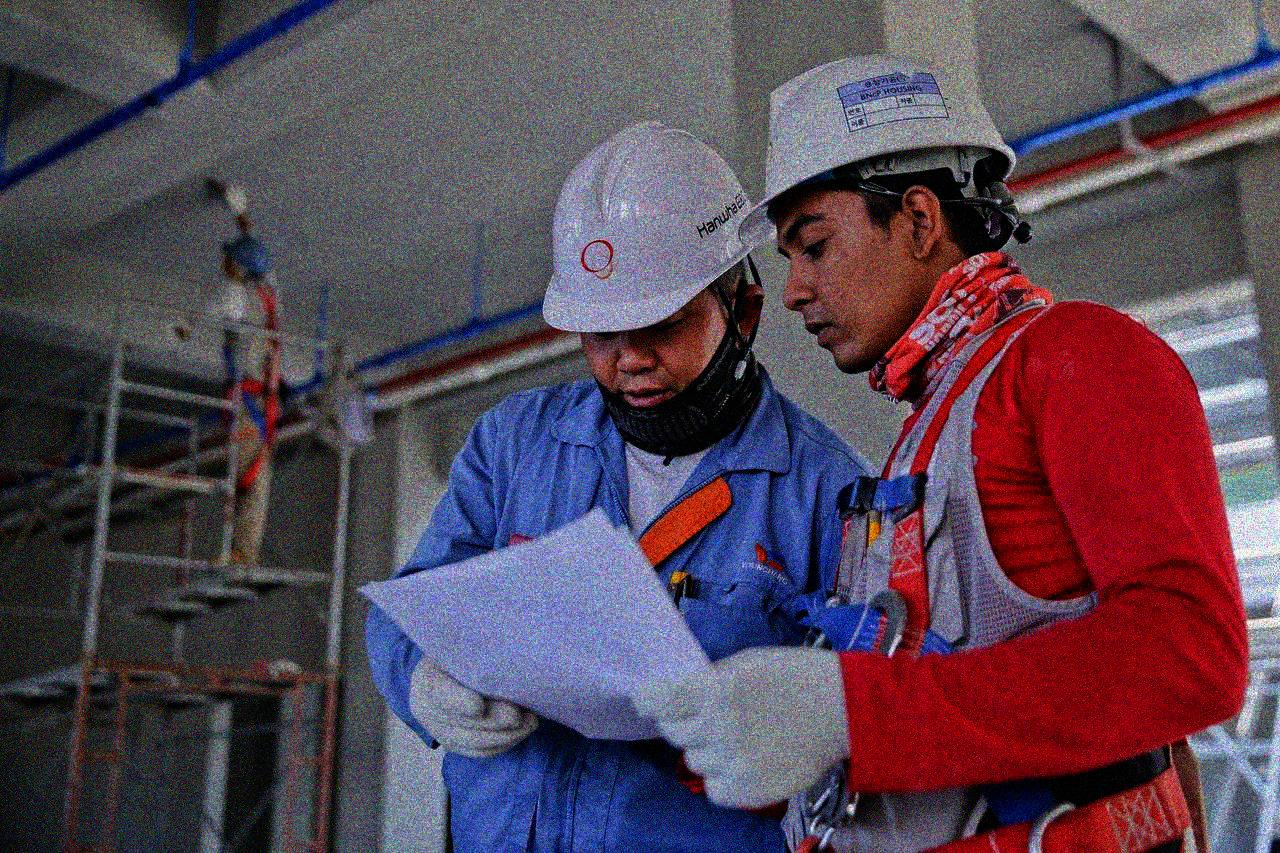helmet: (732, 50, 1022, 373), (533, 113, 782, 408)
